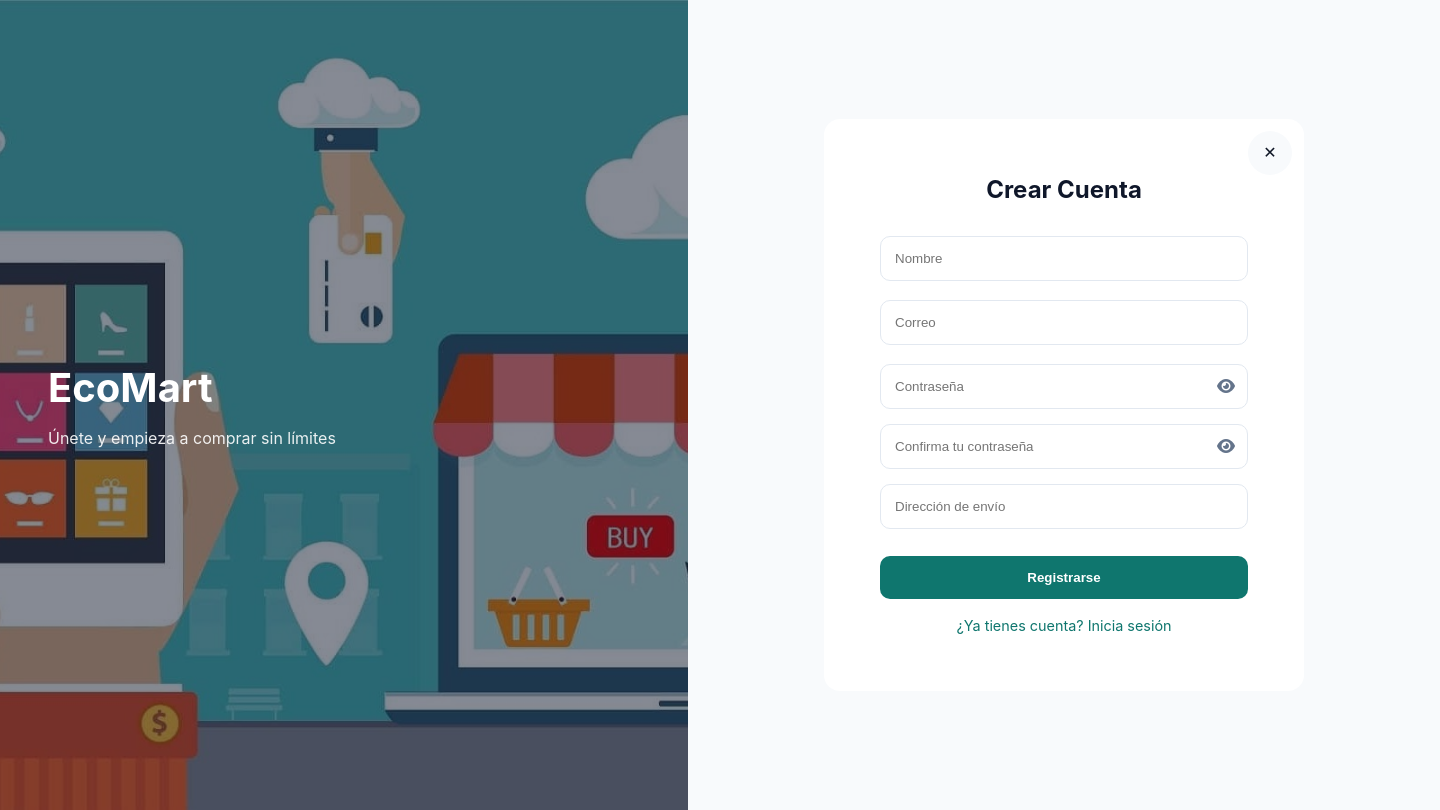
Test: Register Page › Negative Testing - Errores en registro › muestra mensaje de error cuando registerUser falla
Type "Juan" into the field with placeholder "Nombre" at (1064, 258), box [880,236,1248,281]
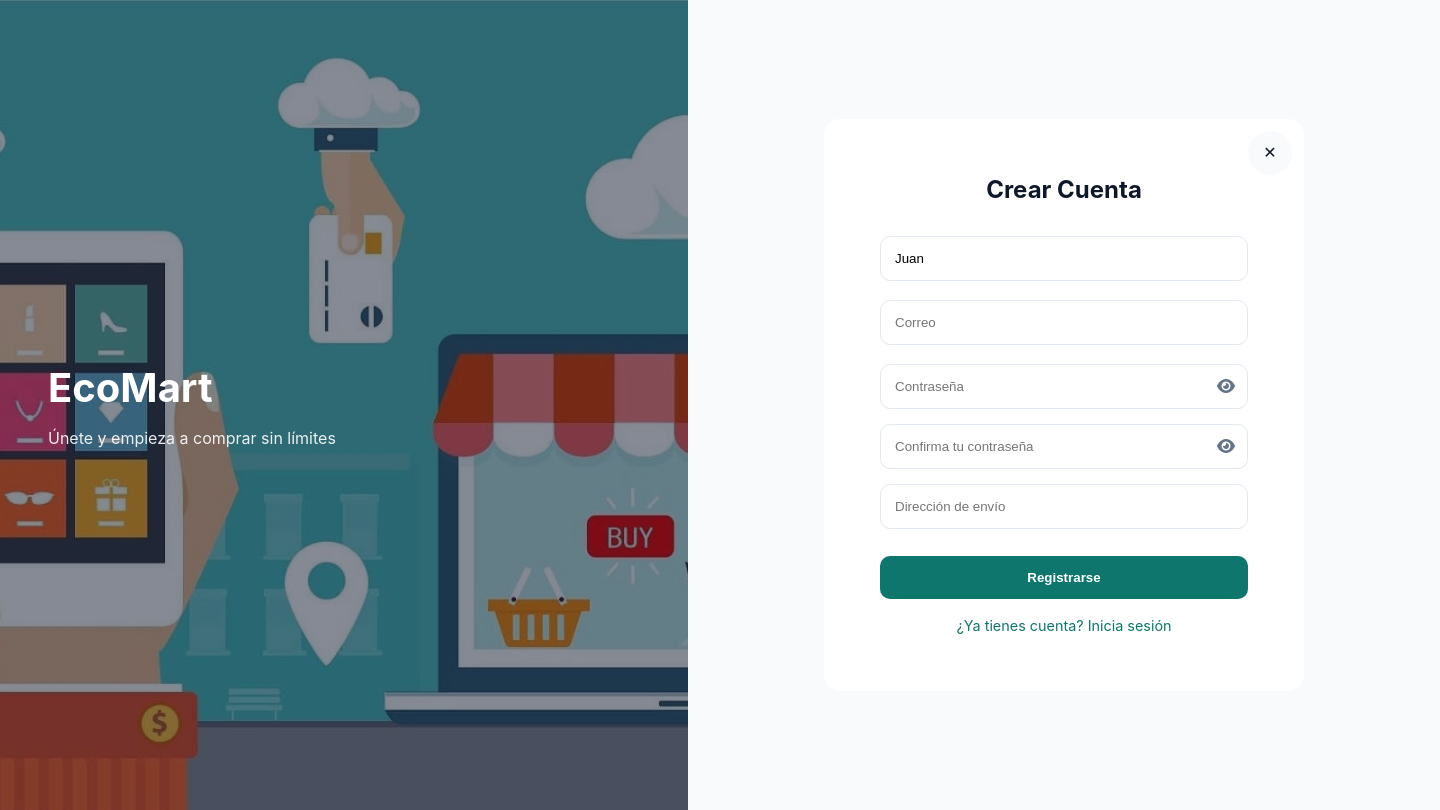
Type "juan@mail.com" into the field with placeholder "Correo" at (1064, 322), box [880,300,1248,345]
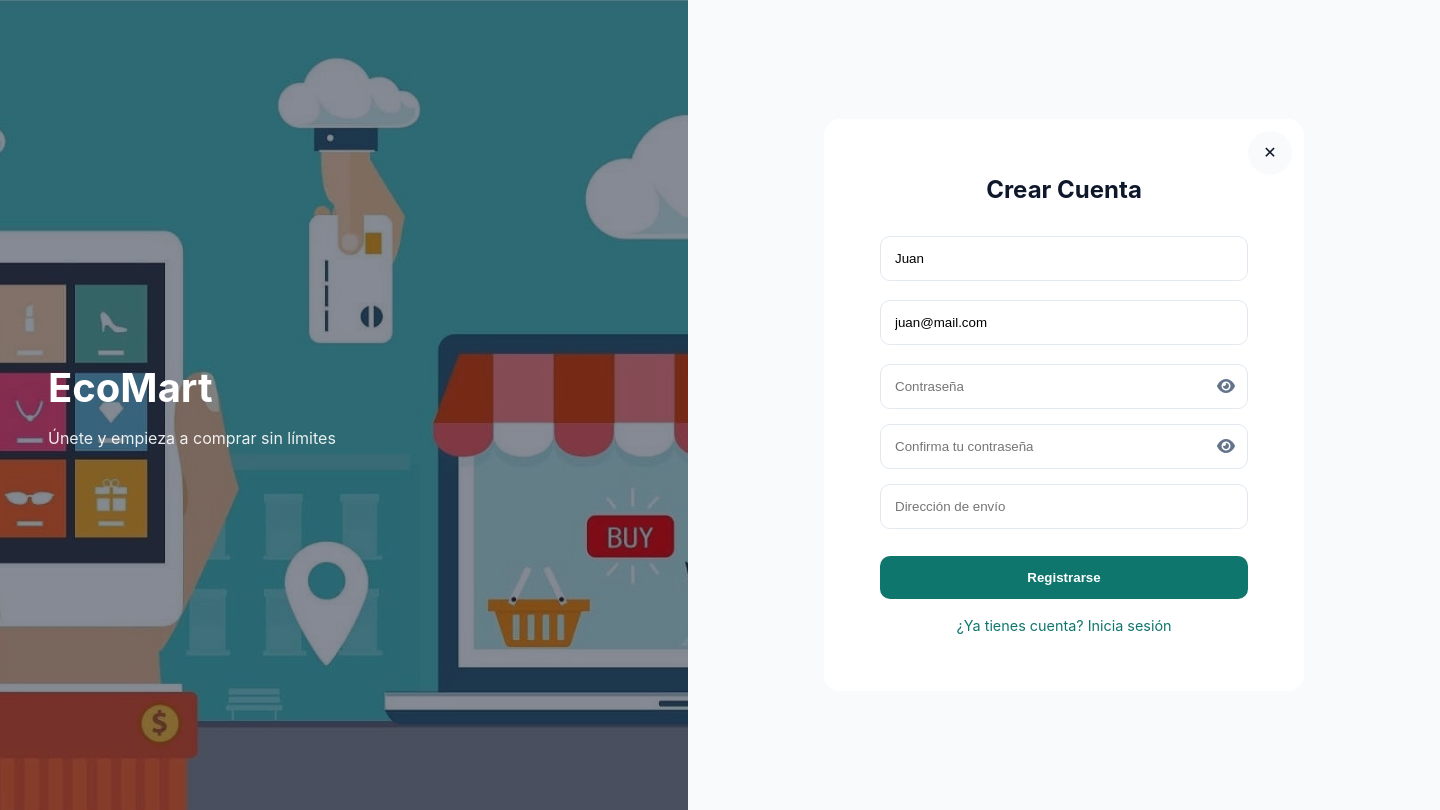
Type "password123" into the password field with placeholder "Contraseña" at (1064, 387), box [880,364,1248,409]
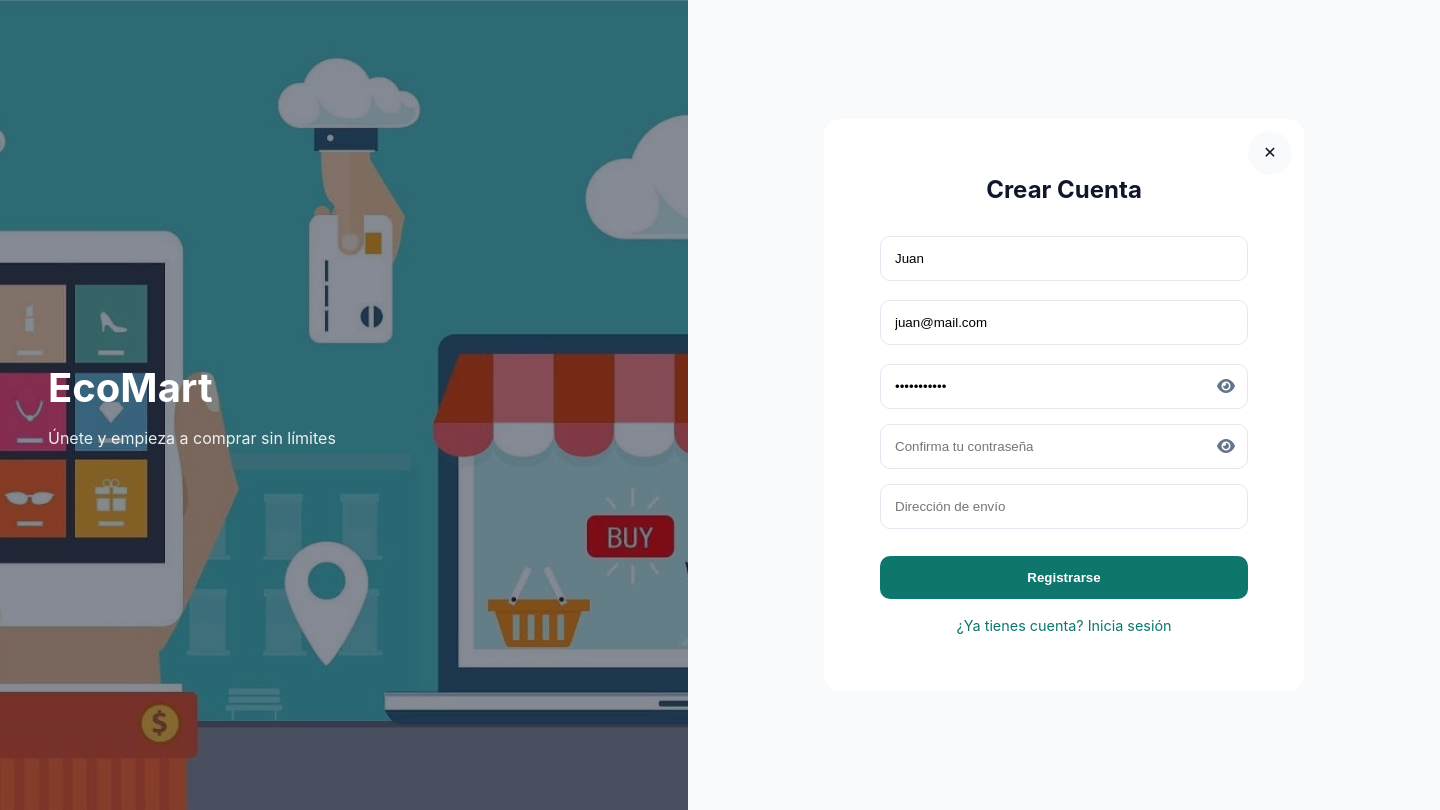
Type "password123" into the password field with placeholder "Confirma tu contraseña" at (1064, 447), box [880,424,1248,469]
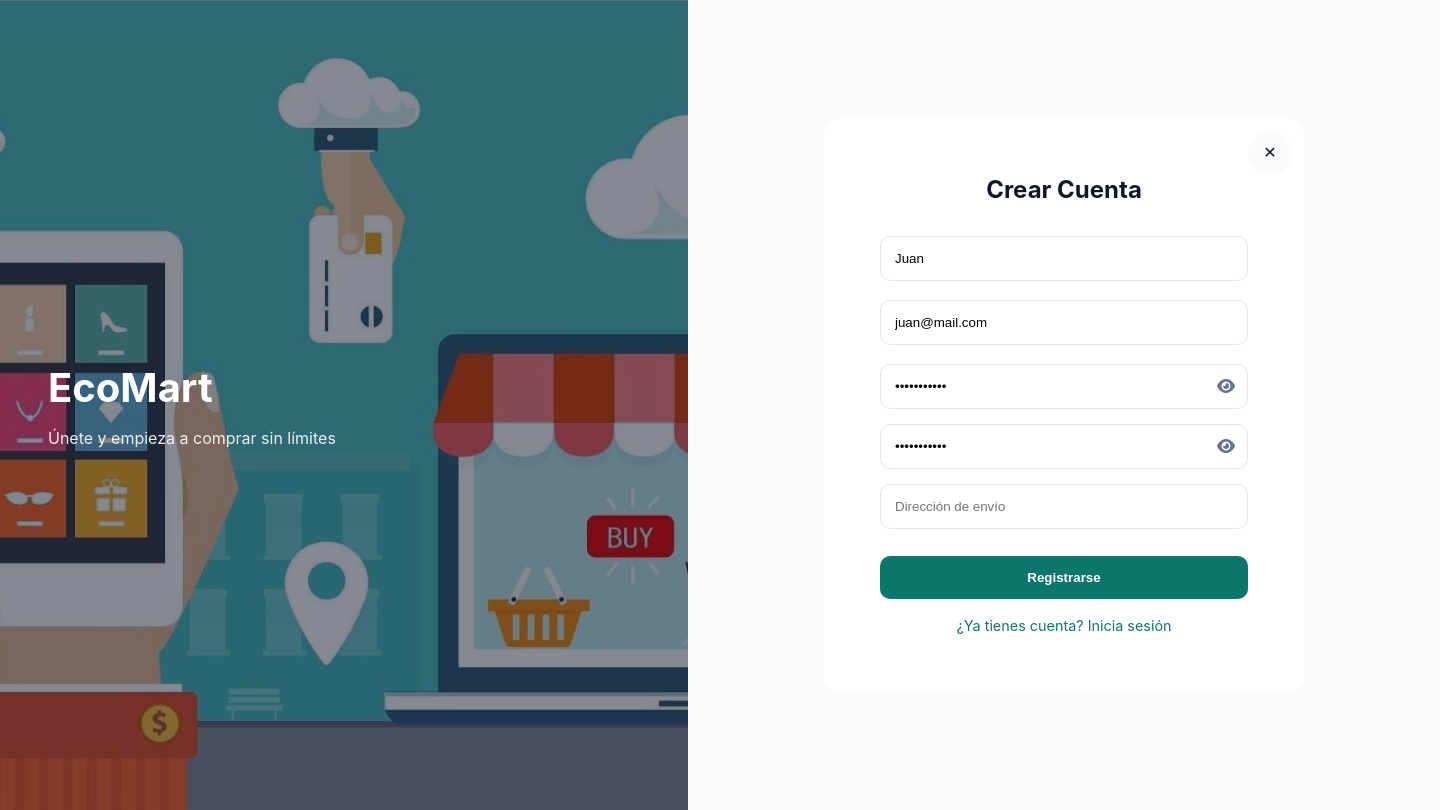
Type "Calle 123" into the field with placeholder "Dirección de envío" at (1064, 507), box [880,484,1248,529]
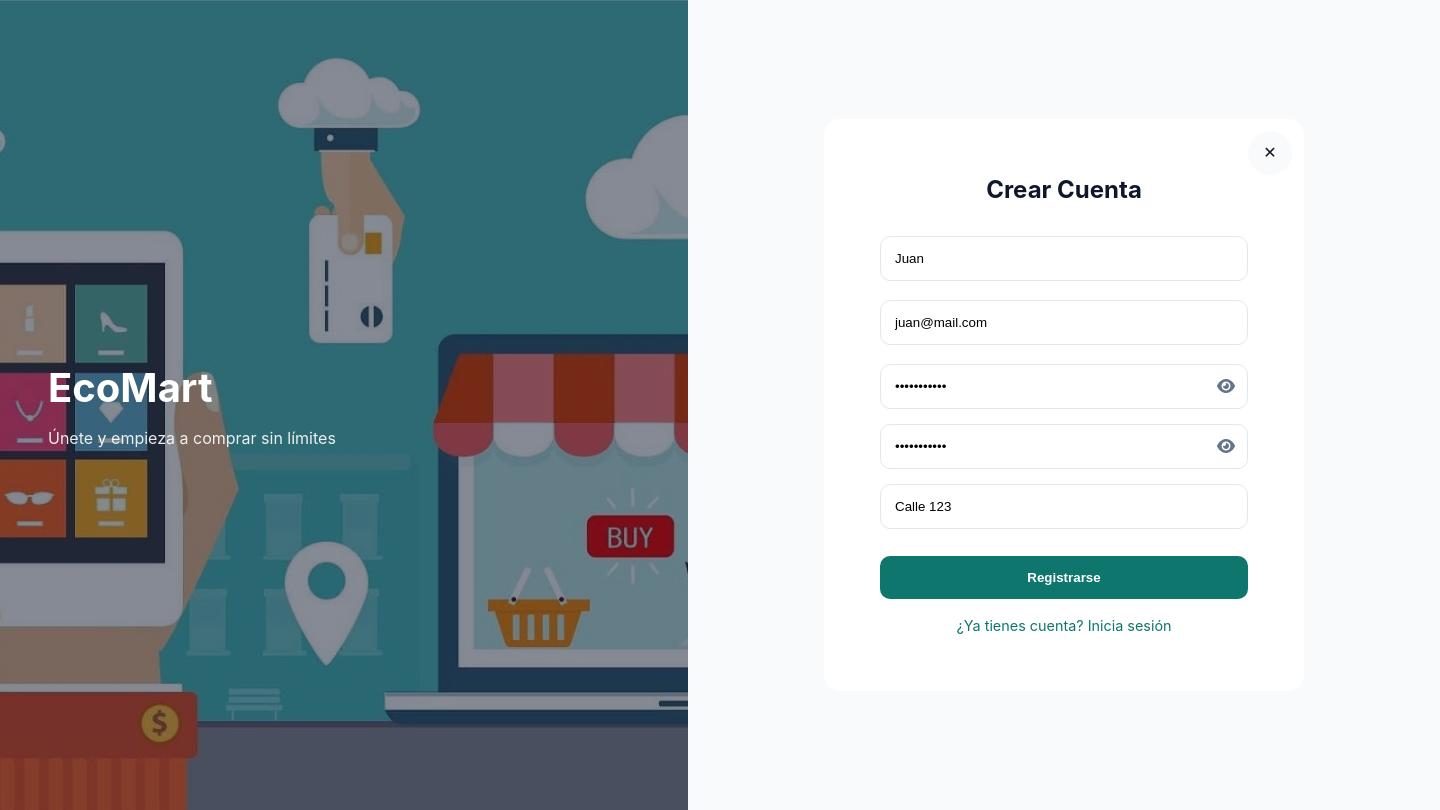
Click the button "Registrarse" at (1064, 578), box [880,556,1248,599]
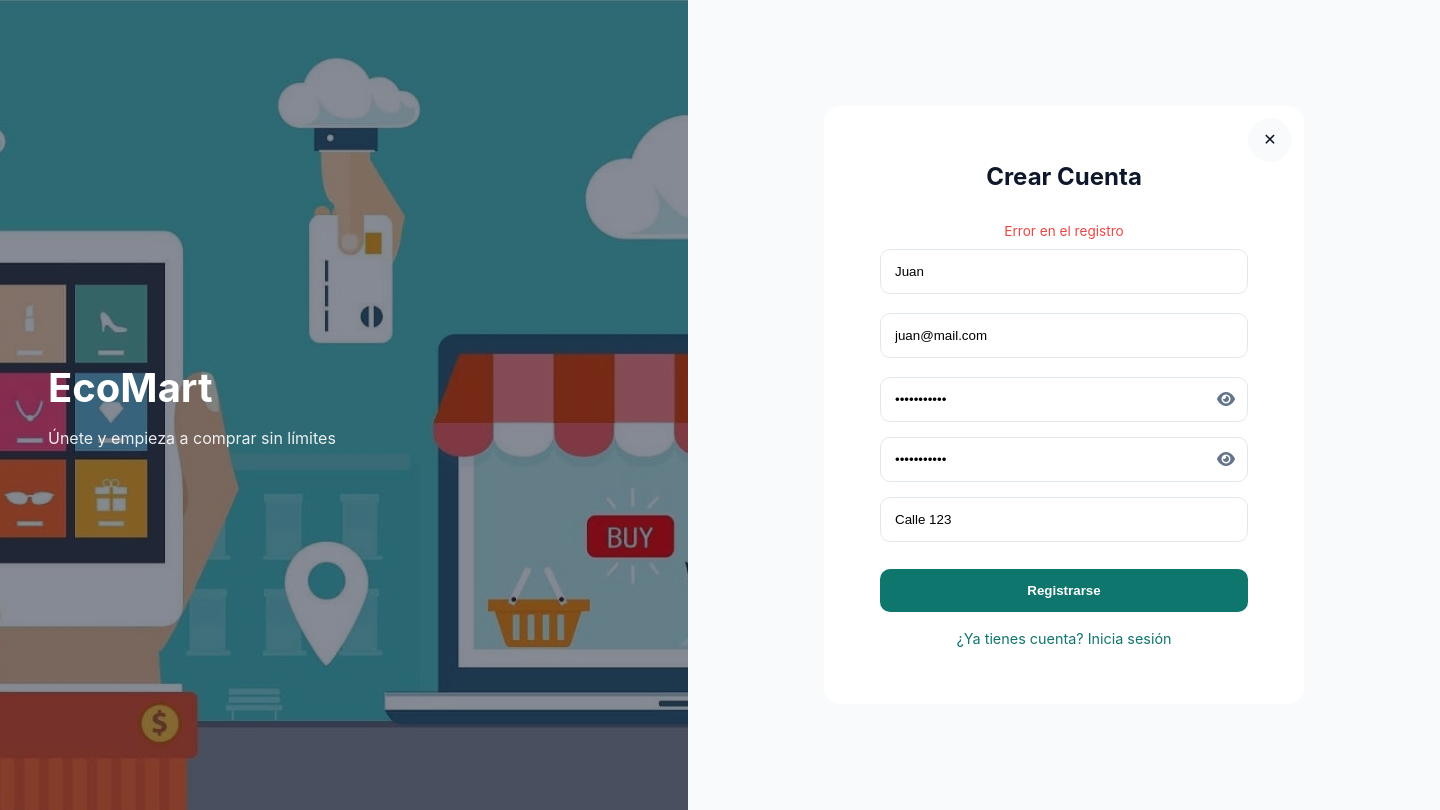
Expected: the text "Error en el registro" is shown, [1004,223,1124,239]
